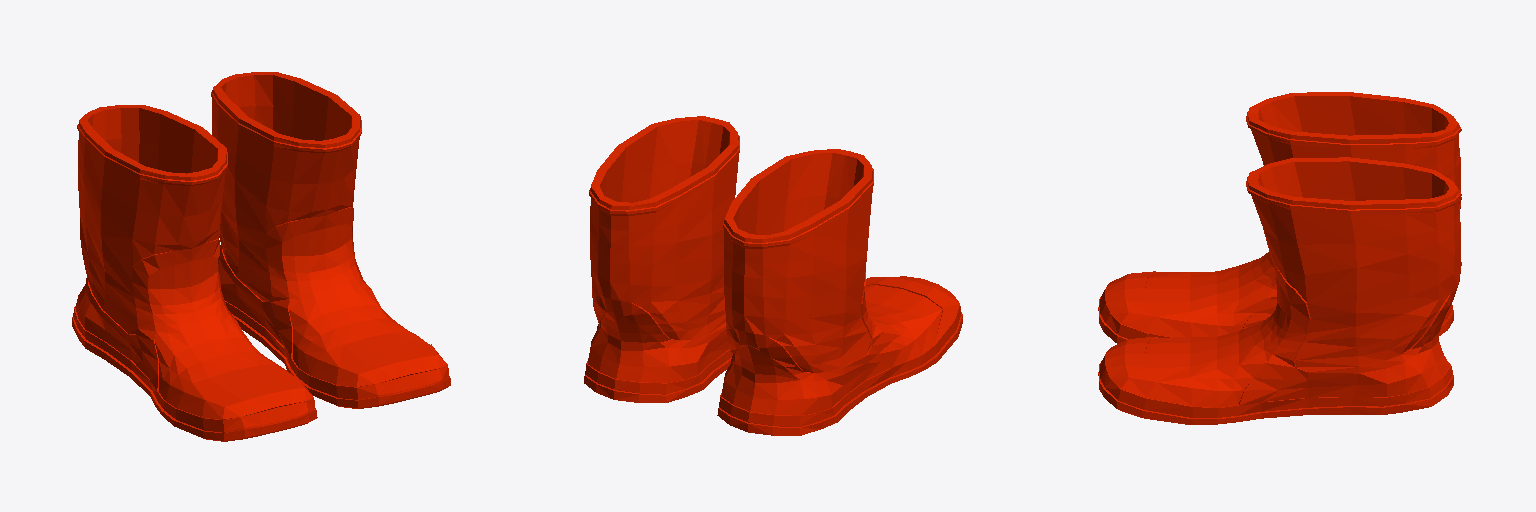
3 renders of one model, left to right at view 1: azimuth 30°, elevation 25°; view 2: azimuth 150°, elevation 25°; view 3: azimuth 270°, elevation 25°, orthographic.
Parts seen in each view (by area): view 1: 绝缘鞋子; view 2: 绝缘鞋子; view 3: 绝缘鞋子.
Part boxes in pixels (x1,y1,x2,y2): 绝缘鞋子: (72,72,450,441); 绝缘鞋子: (584,116,962,435); 绝缘鞋子: (1098,92,1461,424).
Bounding box in the file's own units: 1.22 × 1.01 × 1.52.